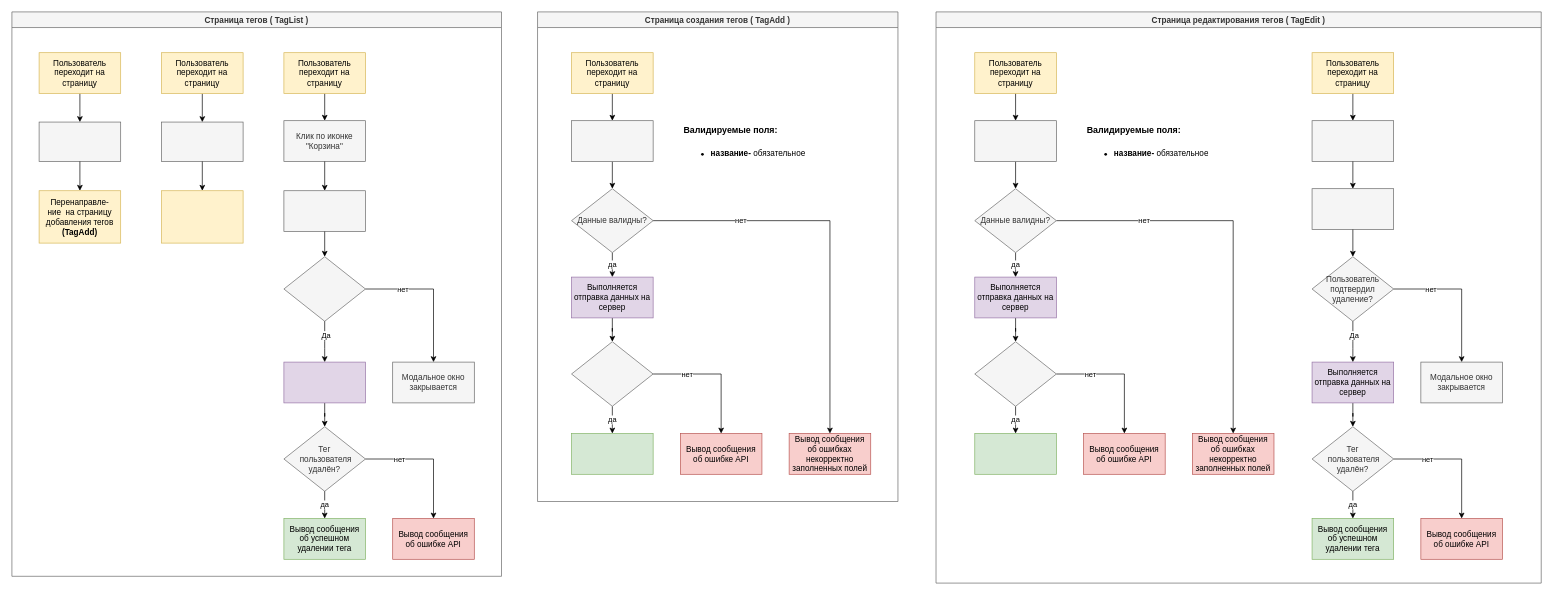
The diagram is 1553 pixels wide and 595 high, and some of its shapes have lost their labels. The shapes that lost their labels are listed below. From the top down, each one's centre as x and y in pixels, then its label:
the point at 79,141: Клик по кнопке "Добавить"
the point at 202,141: Клик по иконке "Карандаш" определённого тега
the point at 612,141: Заполнение данных и отправка формы
the point at 1015,141: Изменение данных и отправка формы
the point at 1352,141: Пользователь нажимает на кнопку "Ещё" и выбирает удаление
the point at 202,216: Перенаправле-ние на страницу редактирования тегов (TagEdit)
the point at 324,211: Всплывает модальное окно
the point at 1352,209: Всплывает модальное окно с подтверждением
the point at 324,288: Пользователь подтверждает удаление?
the point at 324,382: Выполняется отправка данных на сервере
the point at 612,373: Тег создан?
the point at 1015,373: Данные пользователя обновлены?
the point at 612,453: Вывод сообщения об успешном создании тега
the point at 1015,453: Вывод сообщения об успешном обновлении тега
